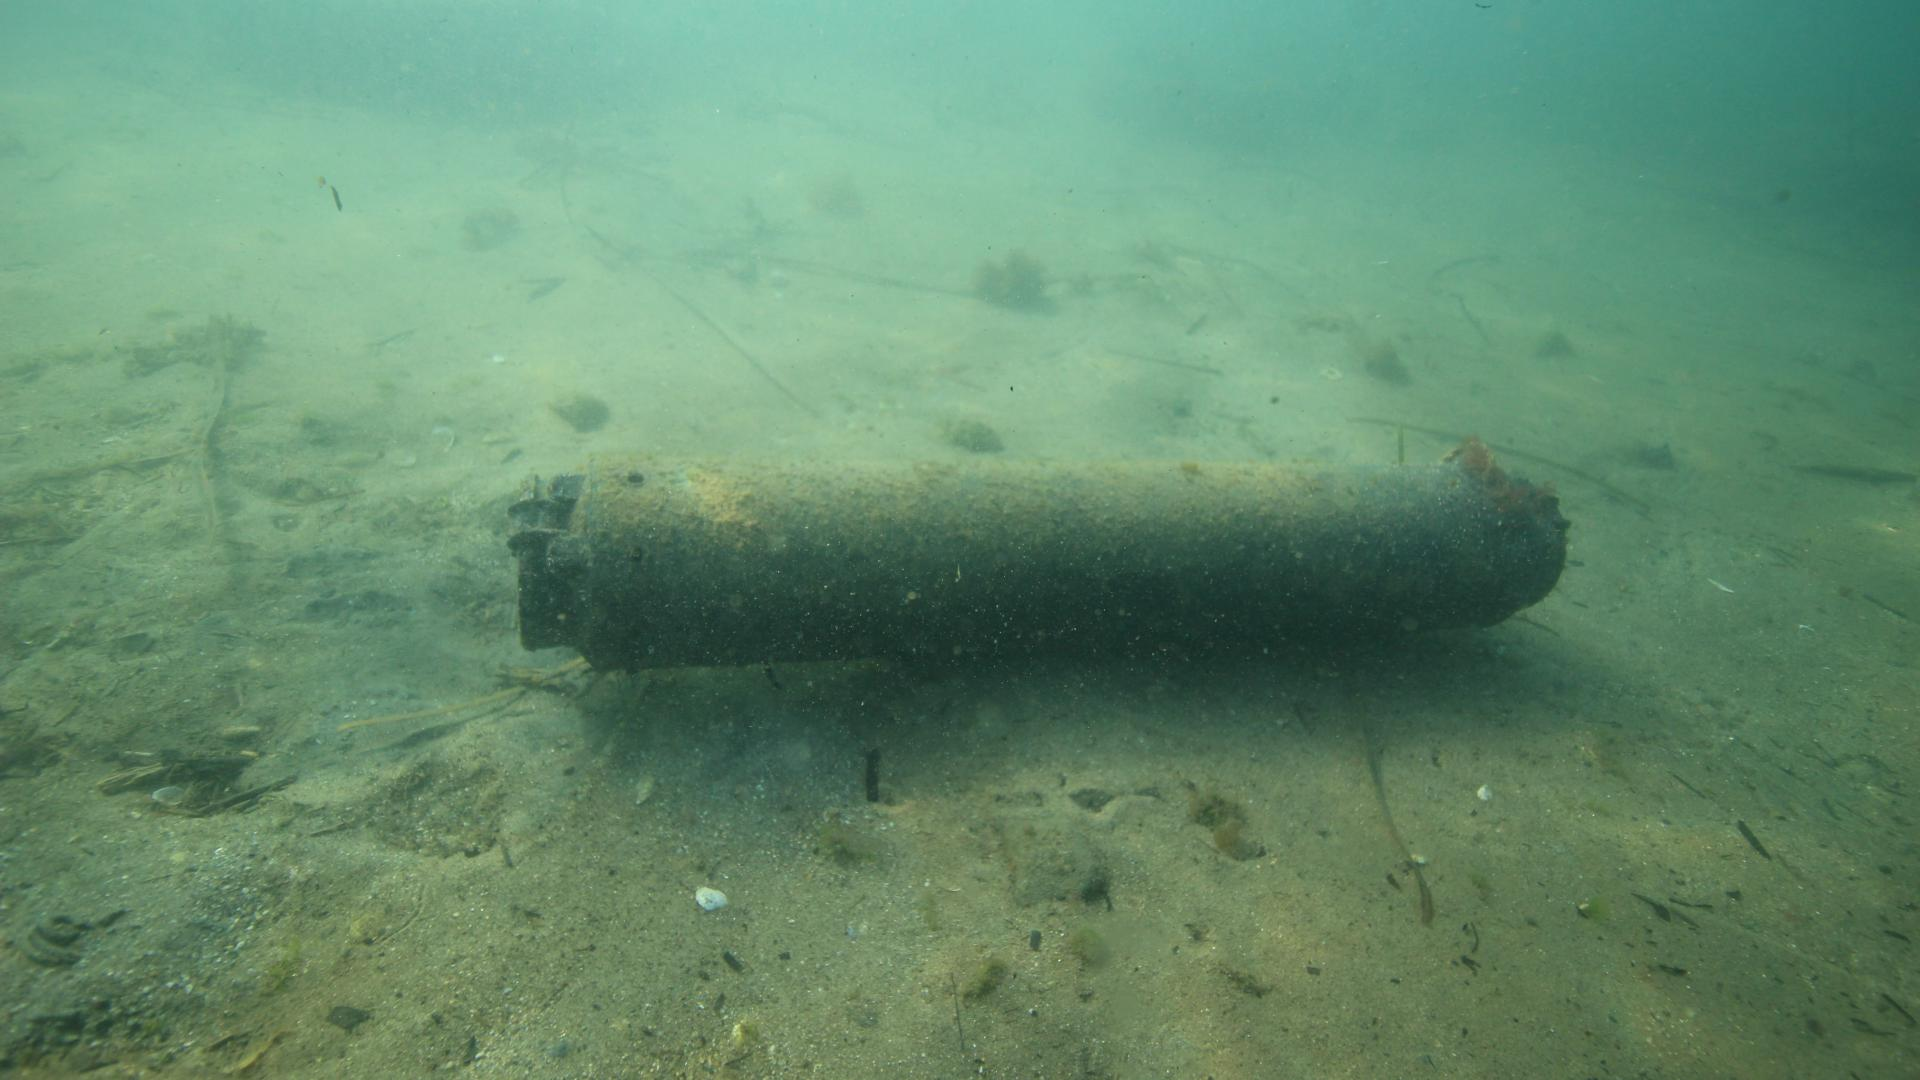eel fish trap: (505, 442, 1575, 687)
